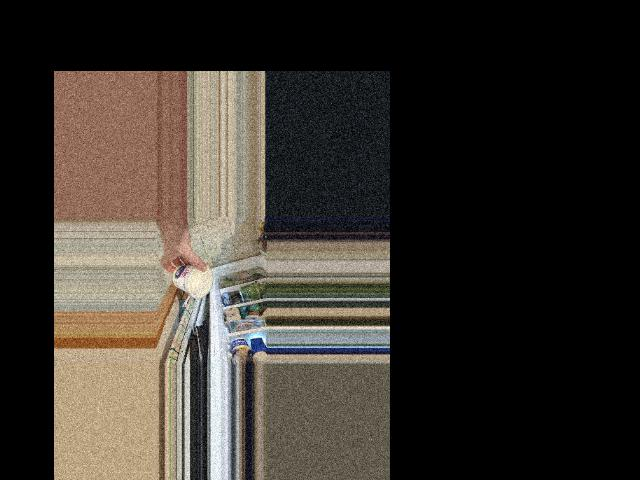cotage: (172, 262, 209, 296)
